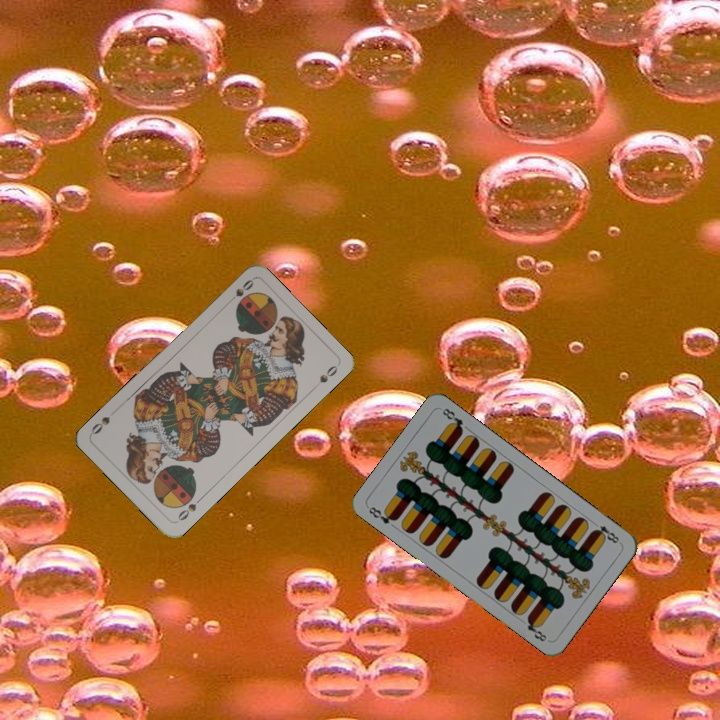E8: (589, 517, 623, 546), (364, 502, 400, 527)
SO: (172, 493, 205, 525), (223, 275, 256, 307)
